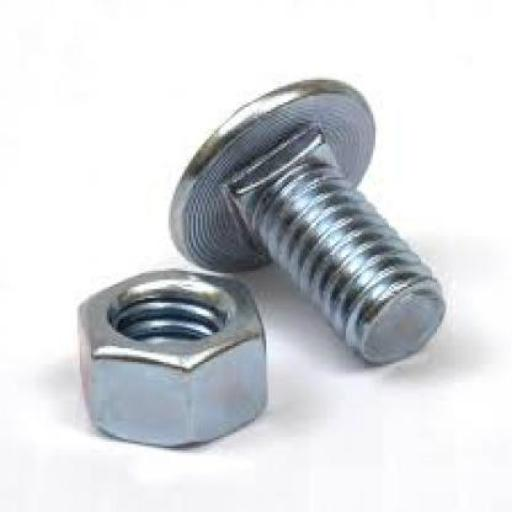metal: (166, 75, 444, 364), (74, 268, 264, 448)
